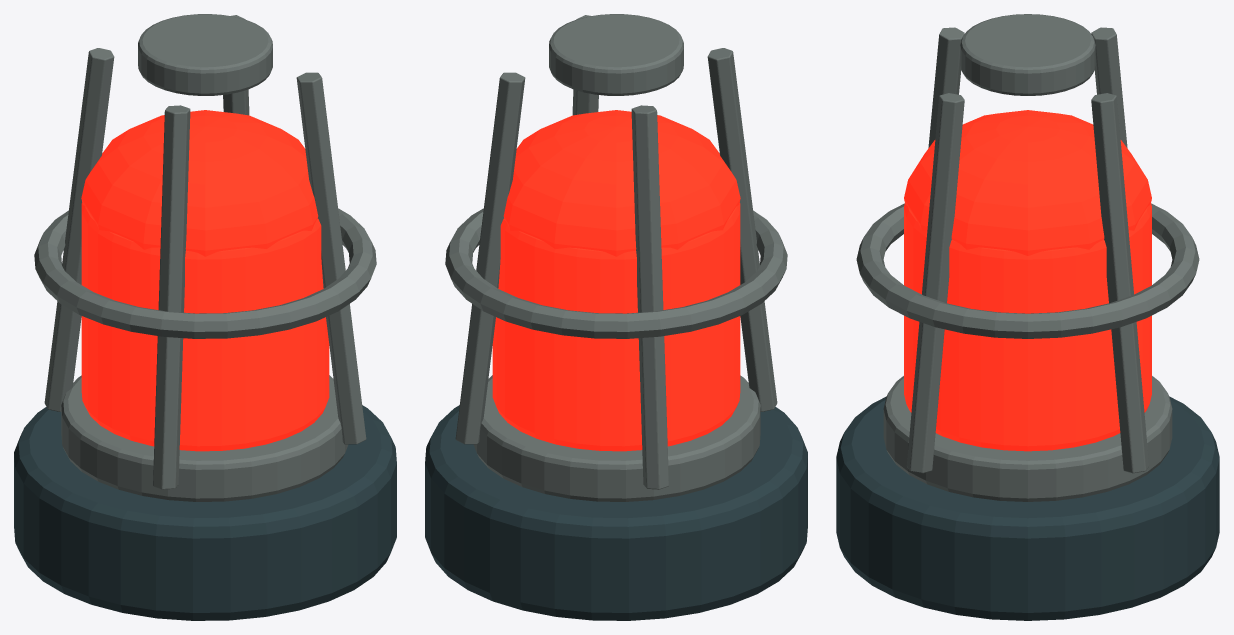
The model's file is warning-beacon.glb.
3 renders of one model, left to right at view 1: azimuth 30°, elevation 25°; view 2: azimuth 150°, elevation 25°; view 3: azimuth 270°, elevation 25°, orthographic.
Parts seen in each view (by area): view 1: warning-beacon__warning-beacon__hardware, warning-beacon__warning-beacon__danger-red, warning-beacon__warning-beacon__steel; view 2: warning-beacon__warning-beacon__hardware, warning-beacon__warning-beacon__danger-red, warning-beacon__warning-beacon__steel; view 3: warning-beacon__warning-beacon__hardware, warning-beacon__warning-beacon__danger-red, warning-beacon__warning-beacon__steel.
Part boxes in pixels (x1,y1,x2,y2): warning-beacon__warning-beacon__hardware: (34,14,376,501); warning-beacon__warning-beacon__danger-red: (81,110,329,451); warning-beacon__warning-beacon__steel: (14,405,396,620); warning-beacon__warning-beacon__hardware: (445,14,787,501); warning-beacon__warning-beacon__danger-red: (492,110,740,451); warning-beacon__warning-beacon__steel: (425,405,807,620); warning-beacon__warning-beacon__hardware: (856,14,1199,501); warning-beacon__warning-beacon__danger-red: (904,110,1151,451); warning-beacon__warning-beacon__steel: (836,396,1219,620).
Size of the model in its own units: 0.17 by 0.247 by 0.17.
